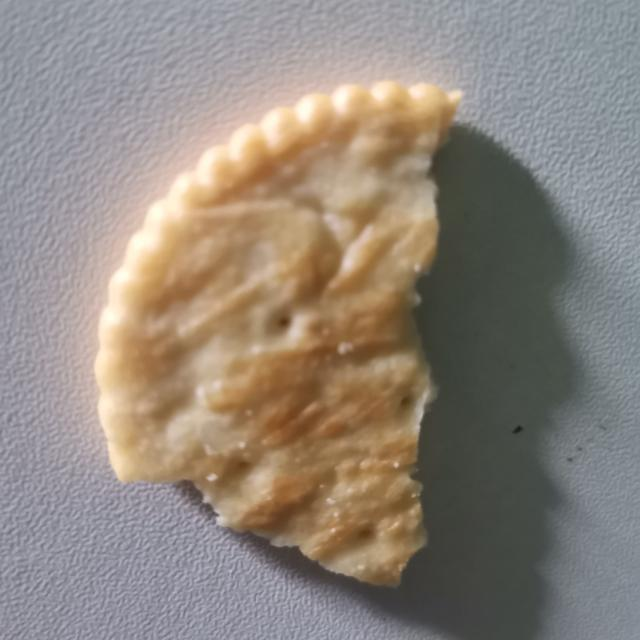Broken: (92, 77, 464, 588)
